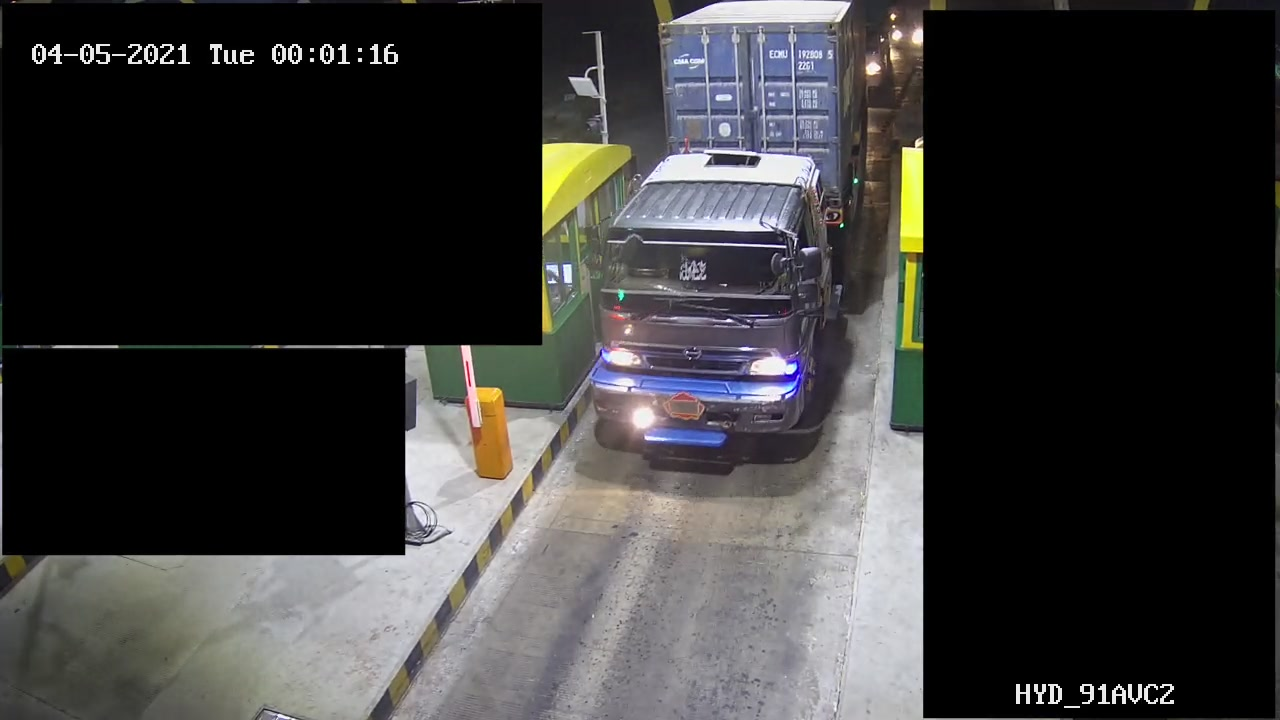F6: (585, 1, 874, 479)
